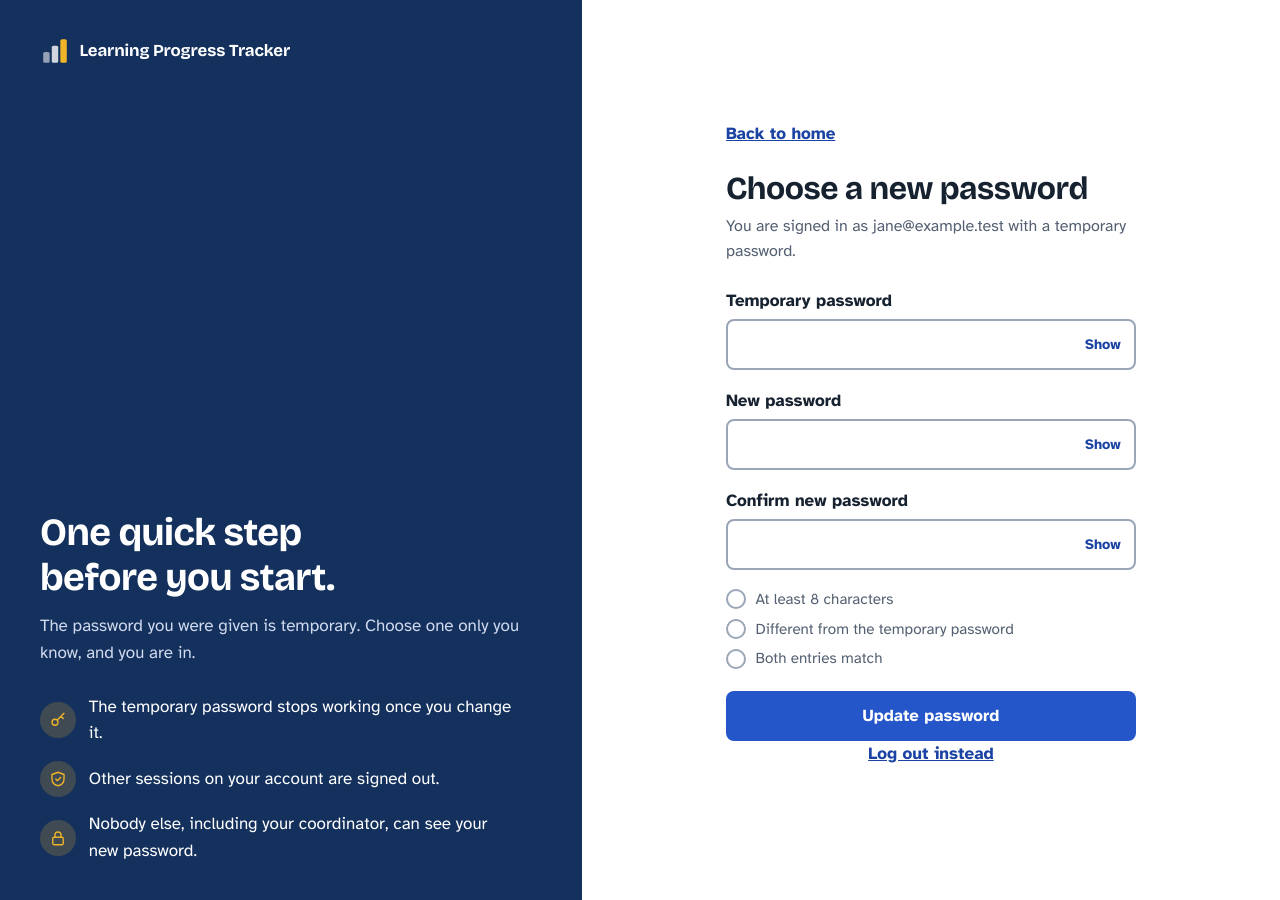
it: ChangePasswordPage › rejects reusing the temporary password
The image size is (1280, 900).
Type "Temp-Pass-1234" into the password field labelled "Temporary password" at (931, 345), box left=726, top=319, right=1136, bottom=370
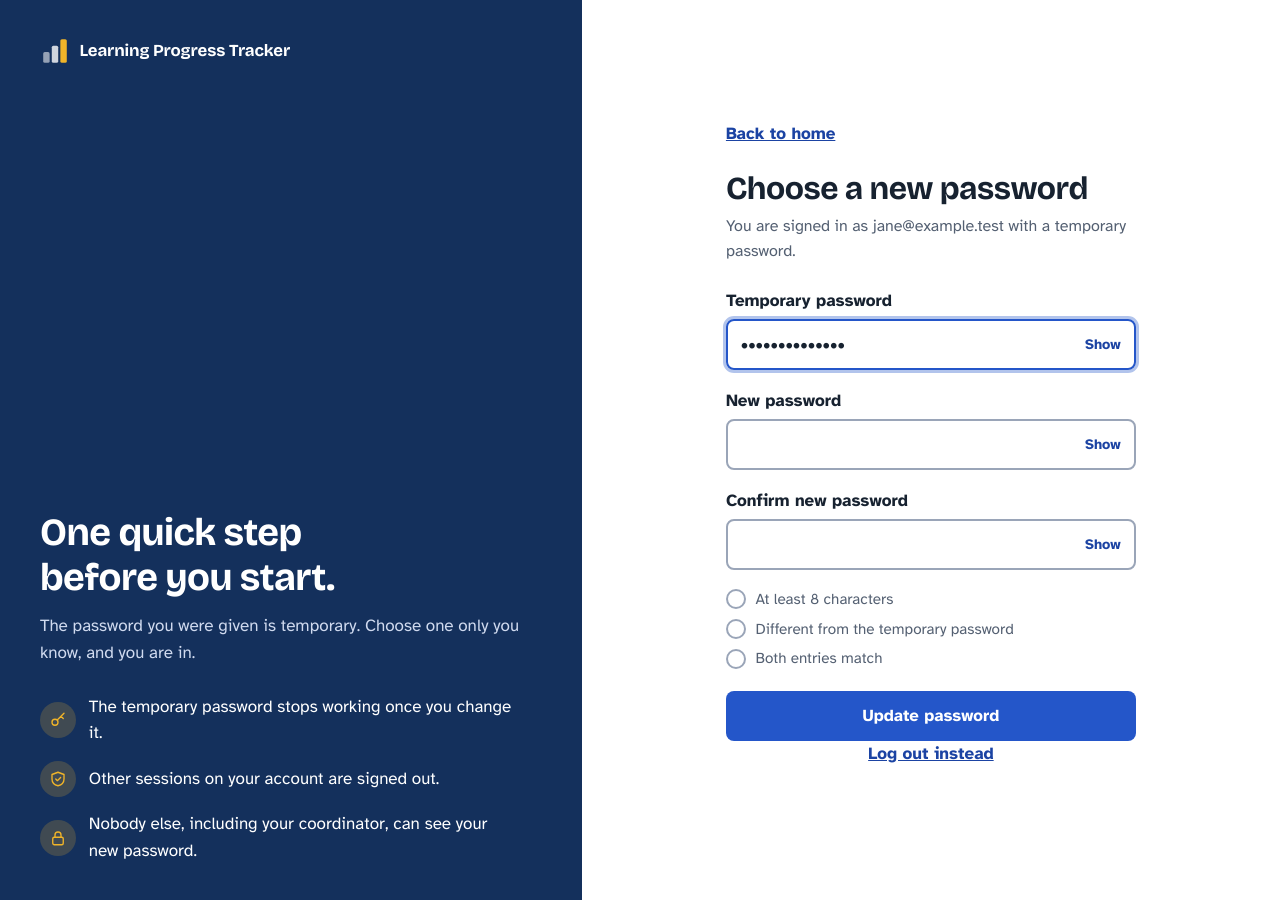
Type "Temp-Pass-1234" into the password field labelled "New password" at (931, 445), box left=726, top=419, right=1136, bottom=470
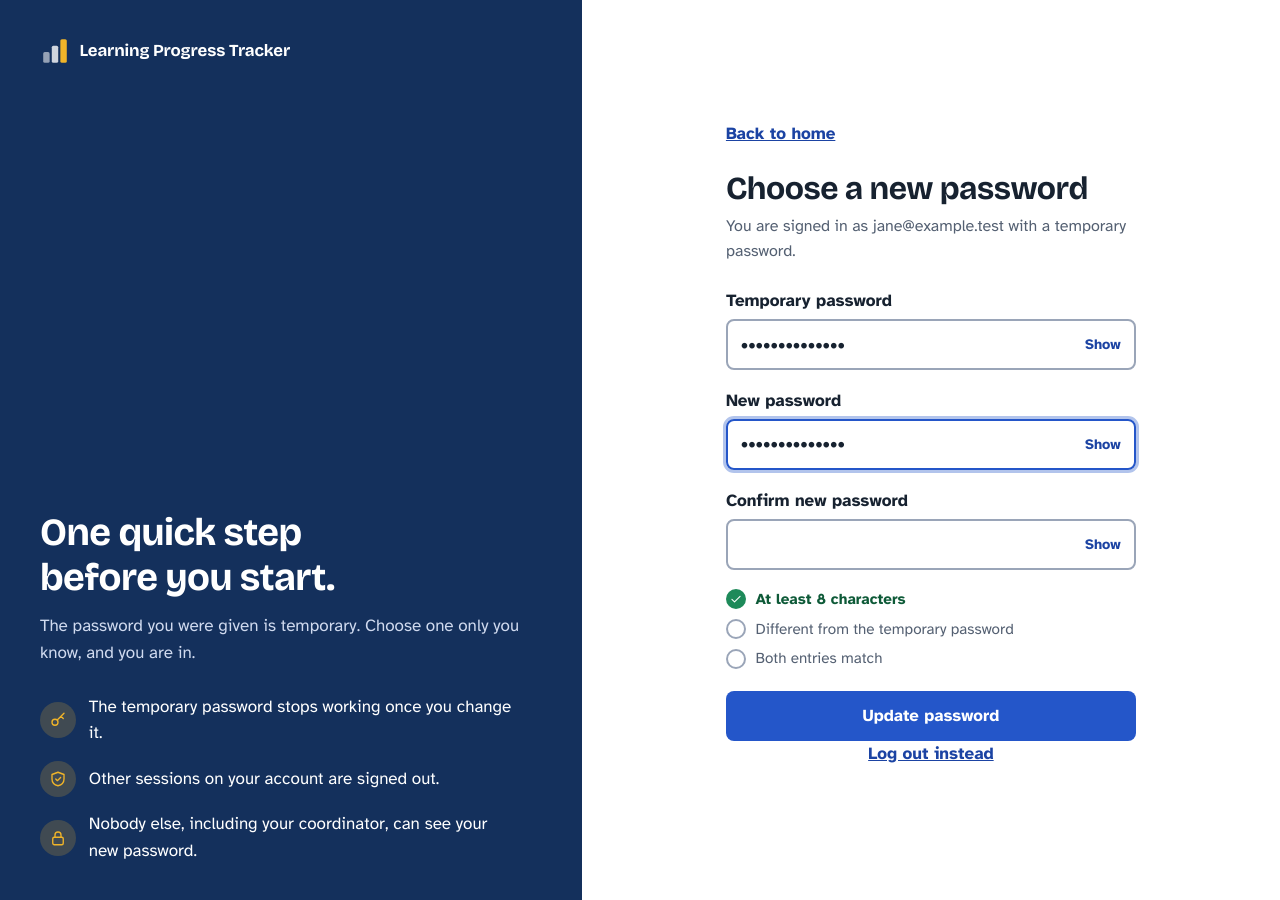
Type "Temp-Pass-1234" into the password field labelled "Confirm new password" at (931, 544), box left=726, top=519, right=1136, bottom=570
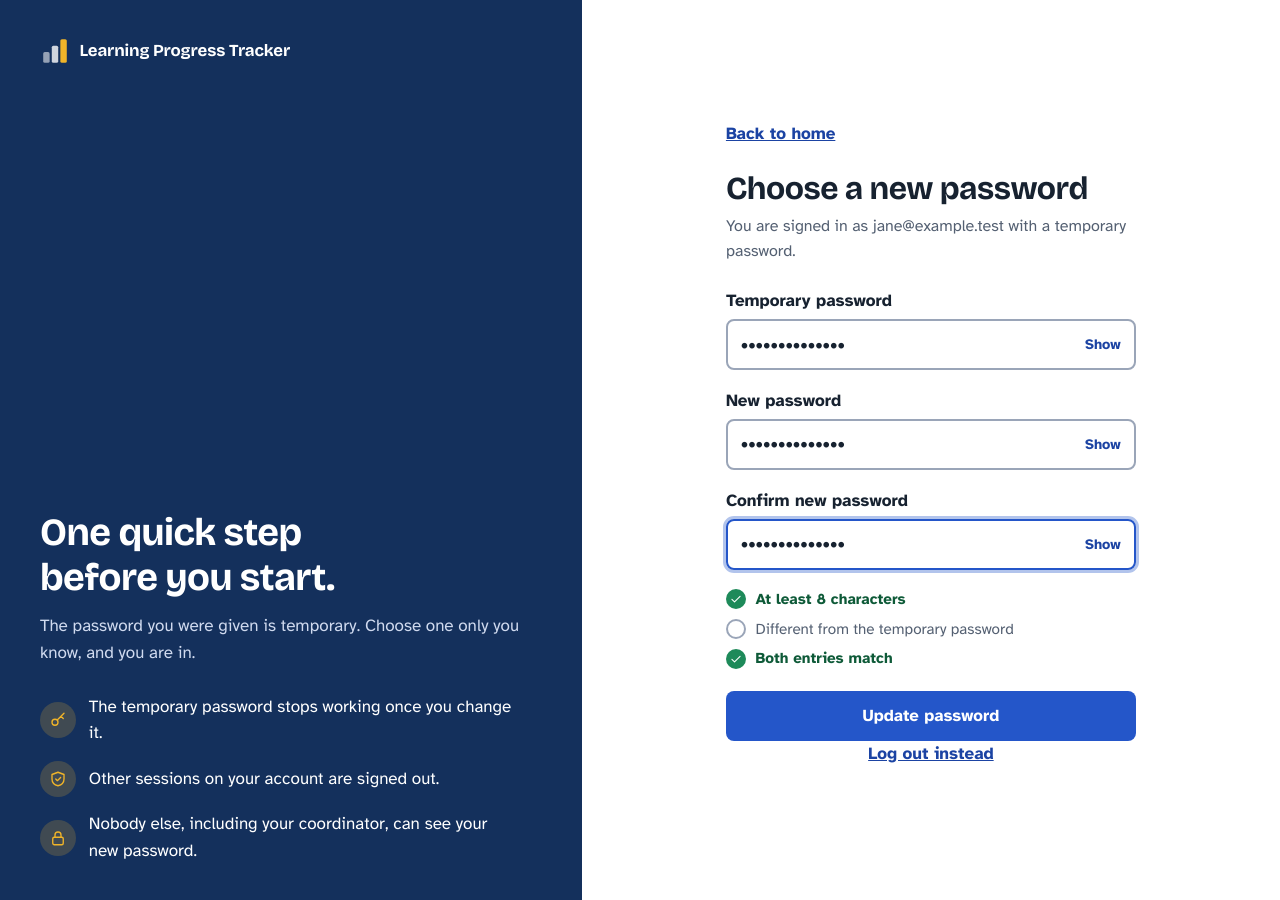
Click the button "Update password" at (931, 716), box left=726, top=691, right=1136, bottom=741
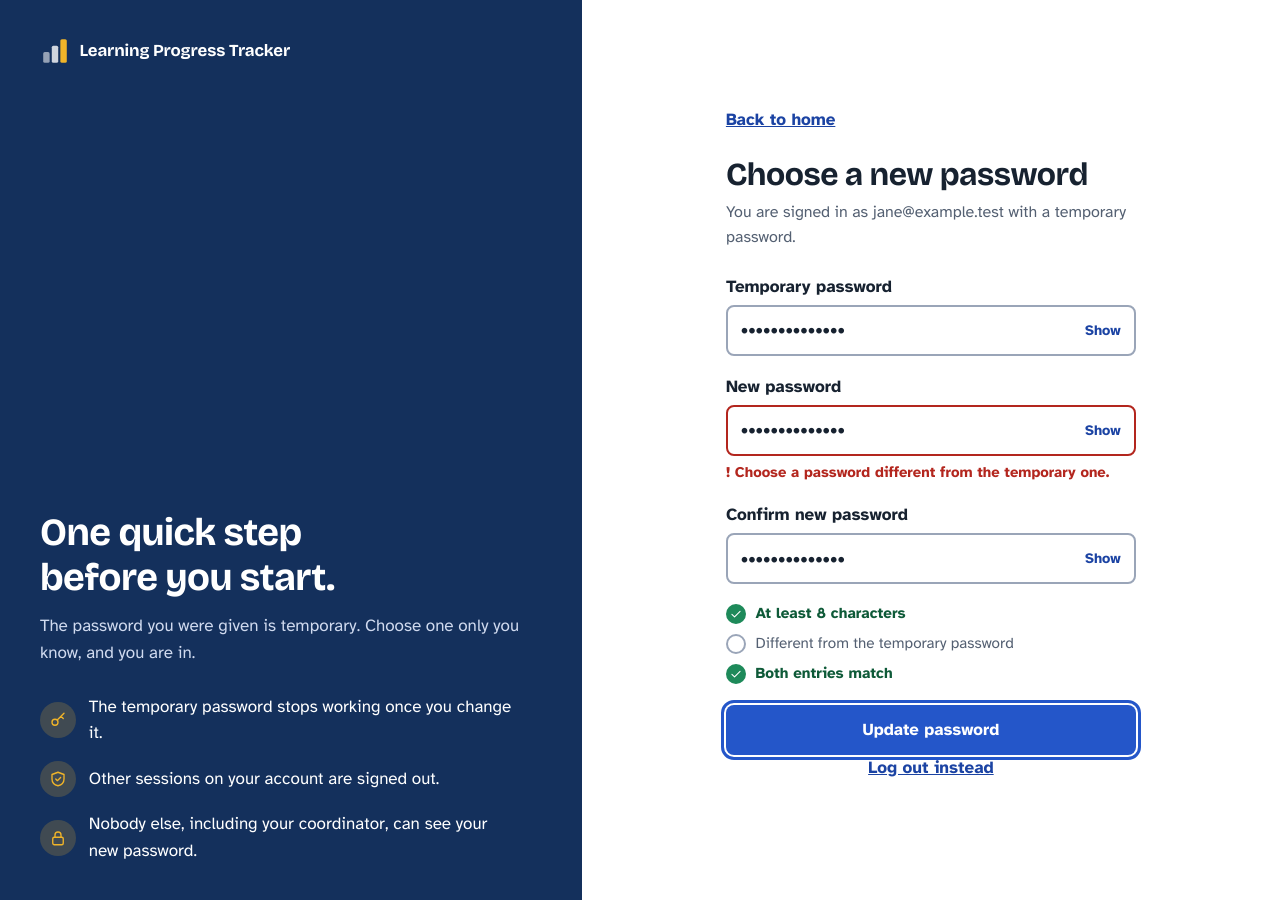
Check: the text "Choose a password different from the temporary one." is shown, box left=726, top=462, right=1136, bottom=484
